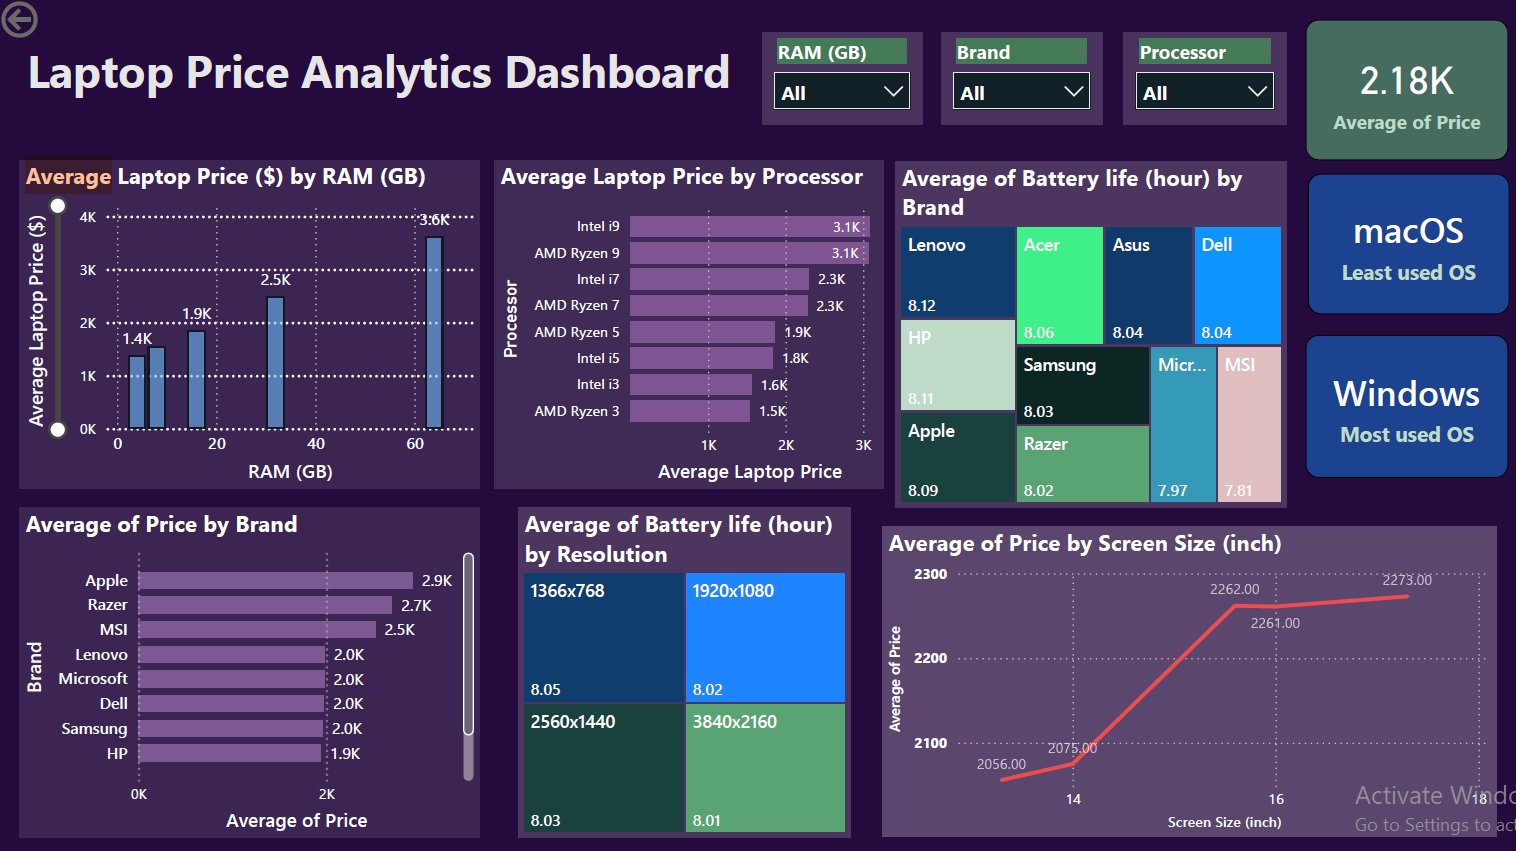

Layout of this report page (visuals, bound fields, positions):
{"tool":"powerbi","page":{"name":"Page 1","canvas":[1280,720],"ordinal":0},"visuals":[{"type":"clusteredBarChart","fields":{"Category":["AvgLapPriceBrand.Brand"],"Y":["Avg(AvgLapPriceBrand.Avg_Price)"]},"box":[20.3,429.1,384.8,275.9],"z":0},{"type":"textbox","box":[20.6,31.6,629.8,76.8],"z":1000},{"type":"treemap","fields":{"Group":["BrandBatteryLife.Brand"],"Values":["Avg(BrandBatteryLife.Avg_Battery)"]},"box":[753.6,139.1,327.5,289.9],"z":2000},{"type":"clusteredColumnChart","fields":{"Y":["Avg(RamOnPrice.Avg_Price)"],"Category":["RamOnPrice.RAM (GB)"]},"box":[20.3,138,384.8,274.7],"z":3000},{"type":"slicer","fields":{"Values":["RamOnPrice.RAM (GB)"]},"box":[642,30.6,134.5,77],"z":4000},{"type":"slicer","fields":{"Values":["AvgLapPriceBrand.Brand"]},"box":[792.4,30.6,134.5,77],"z":5000},{"type":"clusteredBarChart","fields":{"Y":["Avg(processorOnPrice.Avg_Price)"],"Category":["processorOnPrice.Processor"]},"box":[417.7,138,326.6,274.7],"z":6000},{"type":"slicer","fields":{"Values":["processorOnPrice.Processor"]},"box":[945.2,30.6,135.7,77],"z":7000},{"type":"card","fields":{"Values":["Avg(avgPrice.Avg_Price)"]},"box":[1096.9,19.6,170,118.6],"z":10000},{"type":"card","fields":{"Values":["Max(Least used OS and most used OS.Column1)"]},"box":[1098.7,149.3,169.3,117.3],"z":11000},{"type":"actionButton","box":[0,0,100,40],"z":12000},{"type":"card","fields":{"Values":["Max(Least used OS and most used OS.Column2)"]},"box":[1097.3,284,169.3,120],"z":13000},{"type":"lineChart","fields":{"Y":["Avg(Average prices by screen size.Avg_Price)"],"Category":["Average prices by screen size.Screen Size (inch)"]},"box":[743.5,444.9,513,259.4],"z":13001},{"type":"treemap","fields":{"Values":["Avg(ResolutionBatteryLife.Avg_Battery)"],"Details":["ResolutionBatteryLife.Resolution"]},"box":[438,429.1,278.5,275.9],"z":13002}]}

Visuals, with their boxes on the page's 1280x720 design canvas (x1, y1, x2, y2). These are canvas units, not pixel positions in the 1516x851 screenshot, which may show the page scaled, cropped or inside an application window:
clusteredBarChart - AvgLapPriceBrand.Brand x Avg(AvgLapPriceBrand.Avg_Price): [x1=20, y1=429, x2=405, y2=705]
textbox: [x1=21, y1=32, x2=650, y2=108]
treemap - BrandBatteryLife.Brand x Avg(BrandBatteryLife.Avg_Battery): [x1=754, y1=139, x2=1081, y2=429]
clusteredColumnChart - Avg(RamOnPrice.Avg_Price) x RamOnPrice.RAM (GB): [x1=20, y1=138, x2=405, y2=413]
slicer - RamOnPrice.RAM (GB): [x1=642, y1=31, x2=776, y2=108]
slicer - AvgLapPriceBrand.Brand: [x1=792, y1=31, x2=927, y2=108]
clusteredBarChart - Avg(processorOnPrice.Avg_Price) x processorOnPrice.Processor: [x1=418, y1=138, x2=744, y2=413]
slicer - processorOnPrice.Processor: [x1=945, y1=31, x2=1081, y2=108]
card - Avg(avgPrice.Avg_Price): [x1=1097, y1=20, x2=1267, y2=138]
card - Max(Least used OS and most used OS.Column1): [x1=1099, y1=149, x2=1268, y2=267]
actionButton: [x1=0, y1=0, x2=100, y2=40]
card - Max(Least used OS and most used OS.Column2): [x1=1097, y1=284, x2=1267, y2=404]
lineChart - Avg(Average prices by screen size.Avg_Price) x Average prices by screen size.Screen Size (inch): [x1=744, y1=445, x2=1256, y2=704]
treemap - Avg(ResolutionBatteryLife.Avg_Battery) x ResolutionBatteryLife.Resolution: [x1=438, y1=429, x2=716, y2=705]
